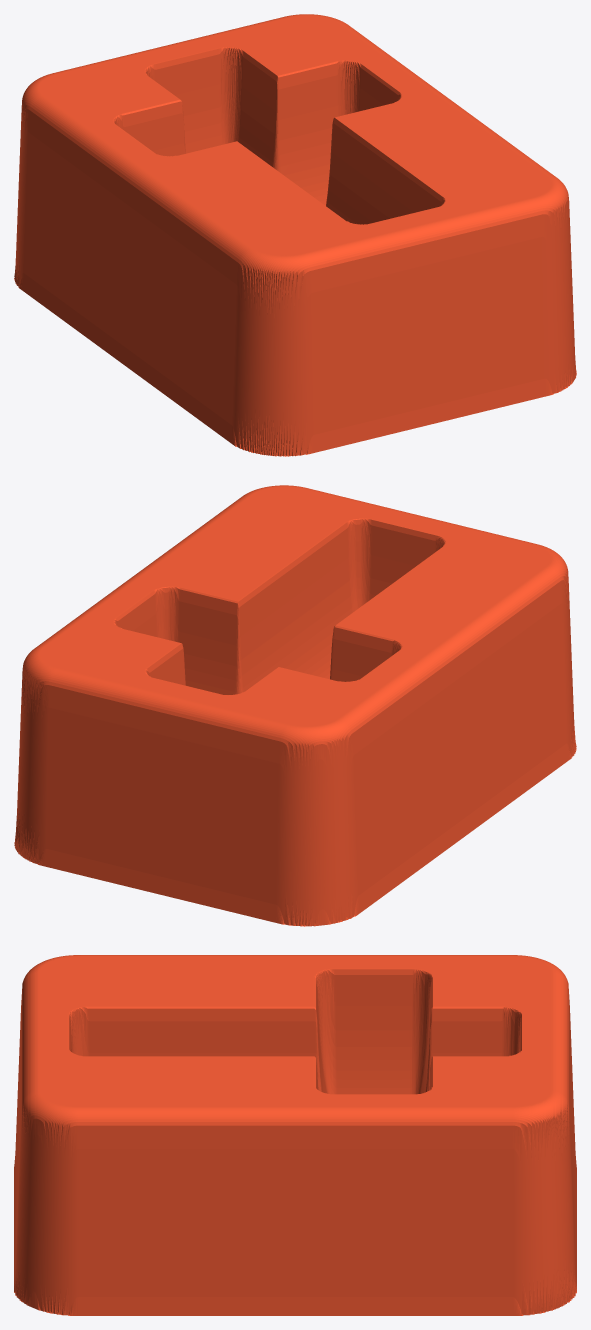
File: mold.glb
3 renders of one model, top to bottom at view 1: azimuth 30°, elevation 25°; view 2: azimuth 150°, elevation 25°; view 3: azimuth 270°, elevation 25°, orthographic. The views are drawn at different scales.
Visible parts, largest first — view 1: geometry_0; view 2: geometry_0; view 3: geometry_0.
Part boxes in pixels (bbox=[...]): geometry_0: bbox=[14, 14, 576, 456]; geometry_0: bbox=[14, 485, 576, 926]; geometry_0: bbox=[14, 955, 576, 1315].
Bounding box in the file's own units: 0.0576 × 0.031 × 0.0798.
